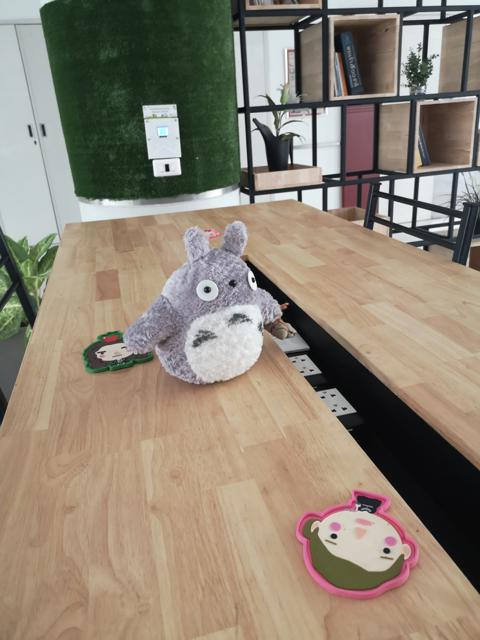totoro: (125, 218, 295, 390)
